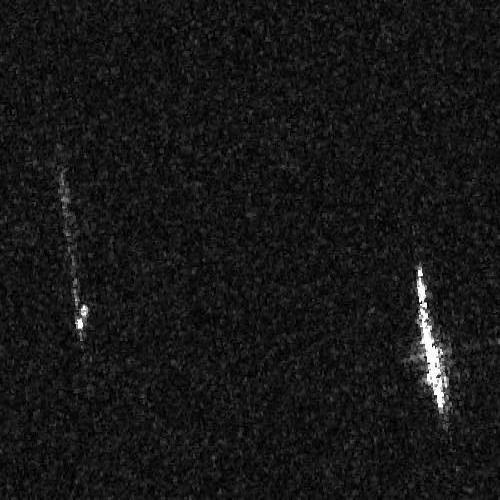ship: (58, 173, 89, 333), (416, 259, 447, 413)
